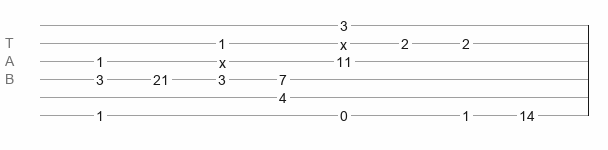0: (340, 108, 348, 118)
1: (96, 54, 104, 64), (96, 108, 104, 118), (218, 36, 226, 46), (462, 108, 470, 118)
11: (336, 54, 352, 64)
14: (519, 108, 535, 118)
2: (401, 36, 409, 46), (462, 36, 470, 46)
21: (153, 72, 169, 82)
3: (96, 72, 104, 82), (218, 72, 226, 82), (340, 18, 348, 28)
4: (279, 90, 287, 100)
7: (279, 72, 287, 82)
x: (219, 55, 226, 63), (340, 37, 347, 45)
